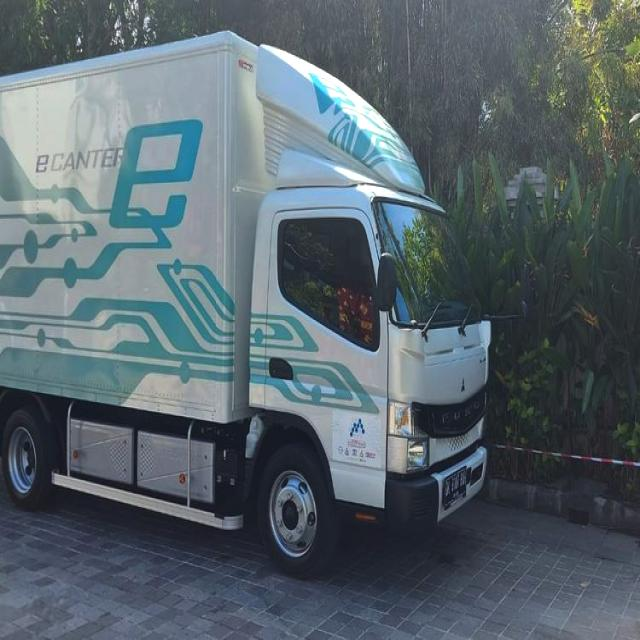truck: (1, 28, 489, 574)
